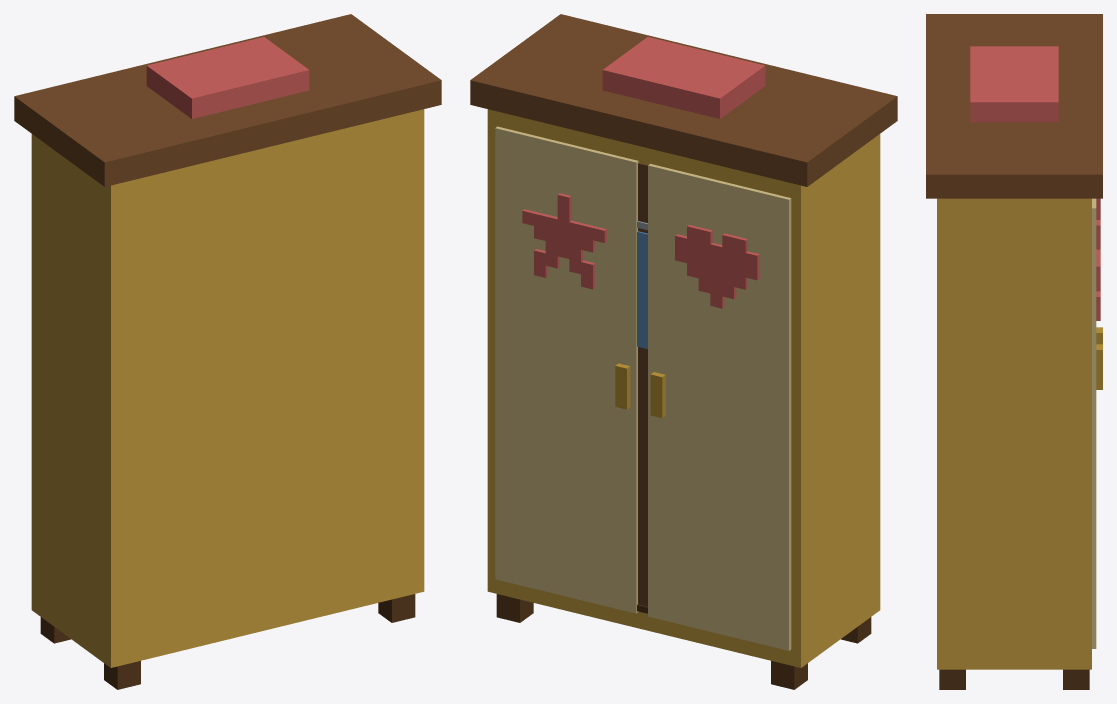
File: ncb-wardrobe-yellow.glb
3 renders of one model, left to right at view 1: azimuth 30°, elevation 25°; view 2: azimuth 150°, elevation 25°; view 3: azimuth 270°, elevation 25°, orthographic. The views are drawn at different scales.
Parts seen in each view (by area): view 1: box-prop; view 2: box-prop, part-door-left, part-door-right; view 3: box-prop, part-door-right.
Boxes of the visible parts, bbox=[...] form: box-prop: bbox=[14, 14, 441, 689]; box-prop: bbox=[470, 14, 897, 689]; part-door-left: bbox=[648, 164, 791, 650]; part-door-right: bbox=[495, 126, 638, 613]; box-prop: bbox=[926, 14, 1102, 689]; part-door-right: bbox=[1092, 198, 1102, 648].
Bounding box in the file's own units: 1.72 × 2.72 × 0.8.
